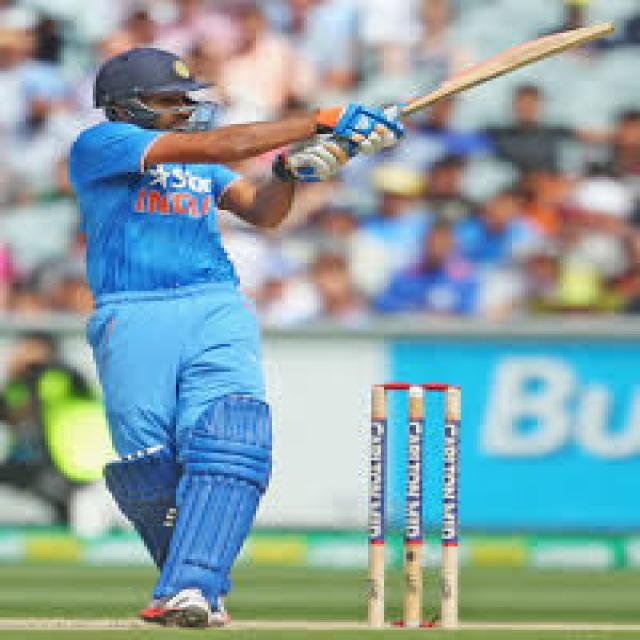toe: (584, 18, 624, 40)
